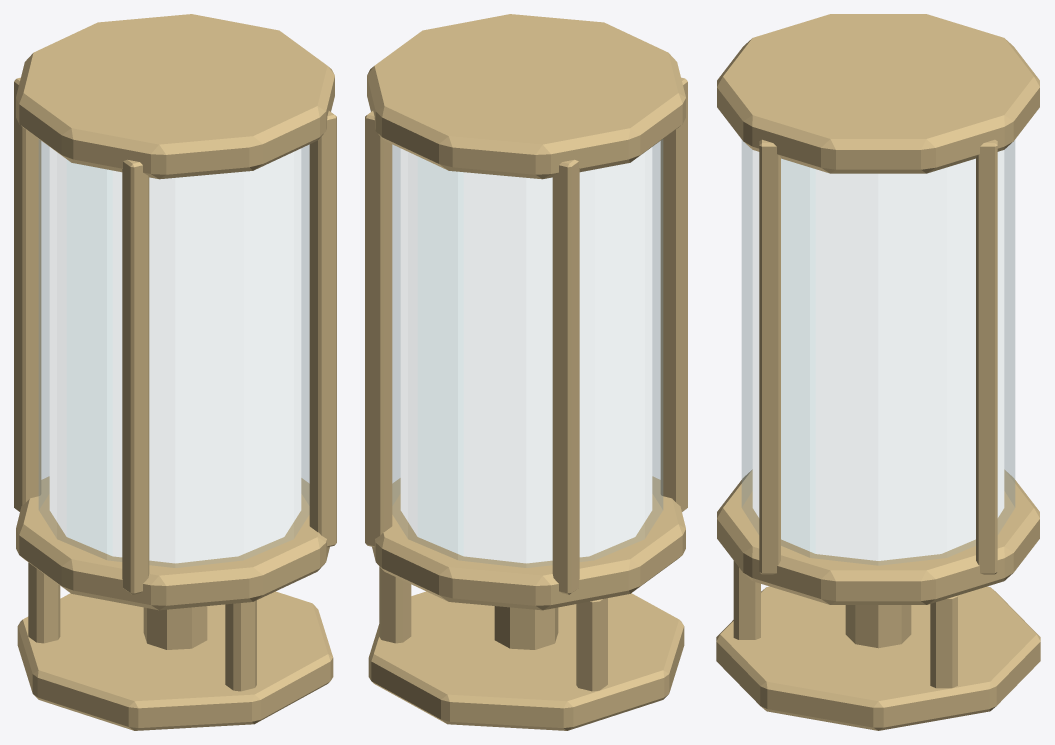
Rendered from In_Tank.fbx.
The picture shows the model from 3 angles, left to right: view 1: azimuth 30°, elevation 25°; view 2: azimuth 150°, elevation 25°; view 3: azimuth 270°, elevation 25°; orthographic projection.
Visible parts, largest first — view 1: In_Tank, Liquid; view 2: In_Tank, Liquid; view 3: In_Tank, Liquid.
Boxes of the visible parts, left/top/right/bottom form: In_Tank: left=14, top=14, right=336, bottom=730; Liquid: left=49, top=147, right=301, bottom=563; In_Tank: left=365, top=14, right=687, bottom=730; Liquid: left=400, top=147, right=652, bottom=563; In_Tank: left=716, top=14, right=1040, bottom=730; Liquid: left=752, top=150, right=1004, bottom=560.
Size of the model in its own units: 0.5923 by 1.18 by 0.5923.
